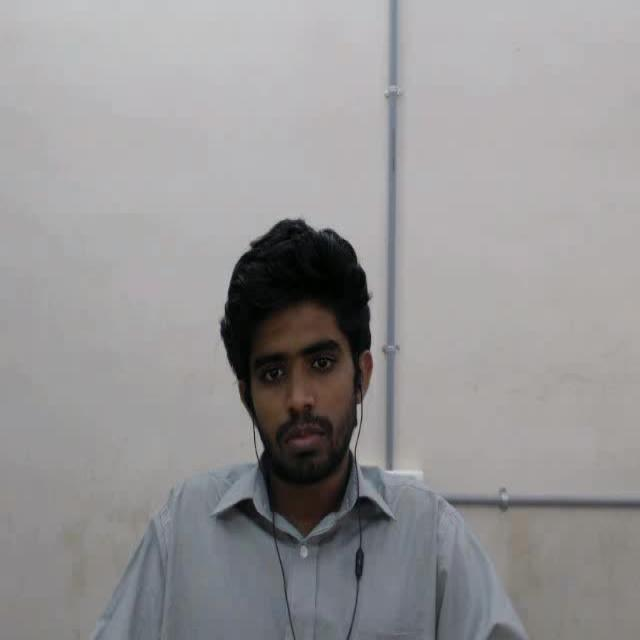Engaged: (194, 172, 414, 560)
